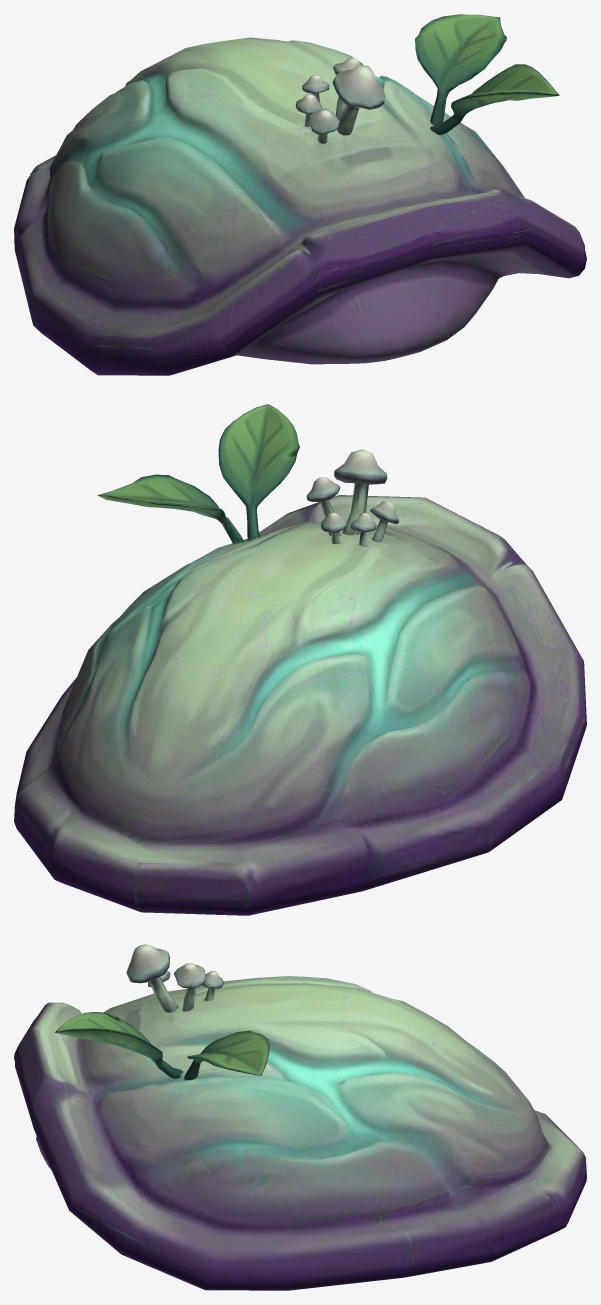
File: symbiote_graft.glb
3 renders of one model, top to bottom at view 1: azimuth 30°, elevation 25°; view 2: azimuth 150°, elevation 25°; view 3: azimuth 270°, elevation 25°, orthographic. The views are drawn at different scales.
Parts seen in each view (by area): view 1: Mesh_0; view 2: Mesh_0; view 3: Mesh_0.
Part boxes in pixels (x1=…): Mesh_0: x1=14, y1=14, x2=586, y2=375; Mesh_0: x1=14, y1=404, x2=586, y2=915; Mesh_0: x1=14, y1=944, x2=586, y2=1290.
Size of the model in its own units: 0.8571 by 0.4974 by 1.
1 material, 1 textured.
